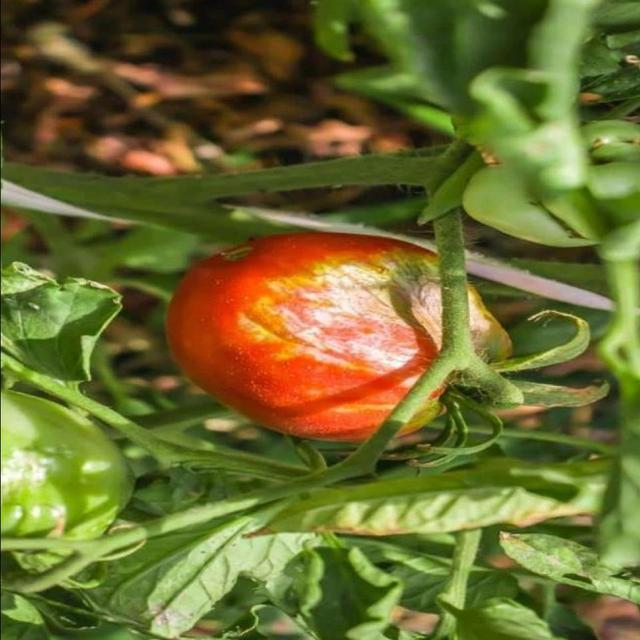Sunscald Fruit: (101, 105, 319, 353)
